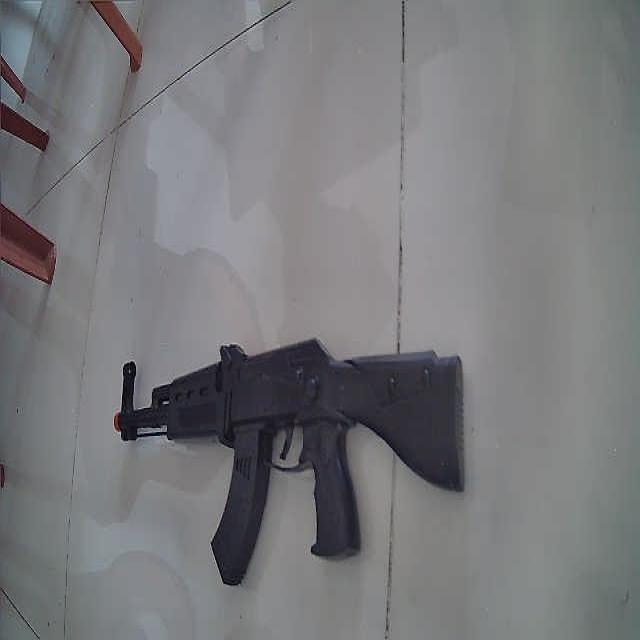rifle: (113, 338, 462, 586)
